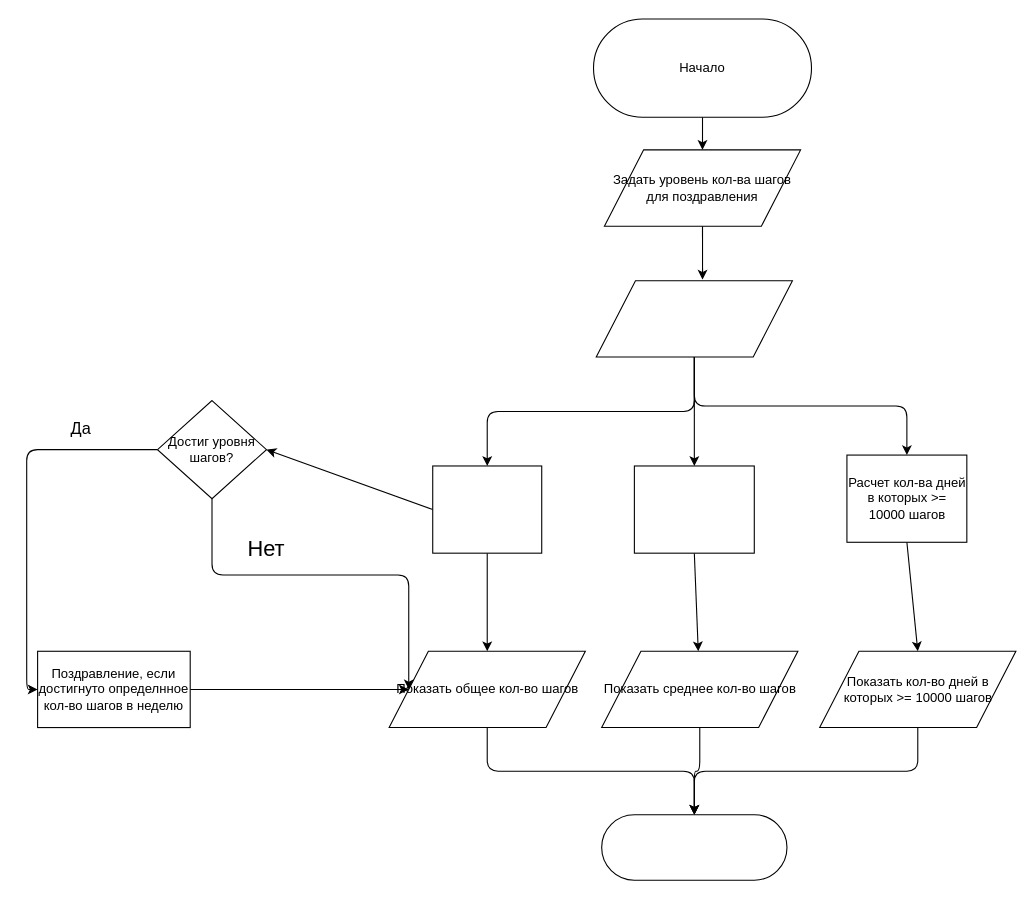
Some shapes in this 1036 by 899 pixel diagram are drawn without their labels. The centre of each missing label's shape, as x and y in pixels:
Запросить шаги за каждый день в неделю: pixel 693 318
Конец: pixel 694 847
Расчет общего кол-ва шагов: pixel 487 509
Расчет среднего кол-ва шагов: pixel 693 509
